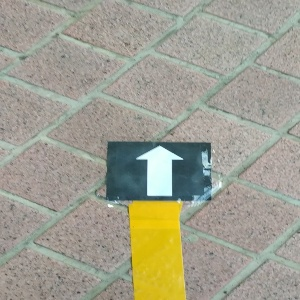straight: (108, 142, 212, 201)
